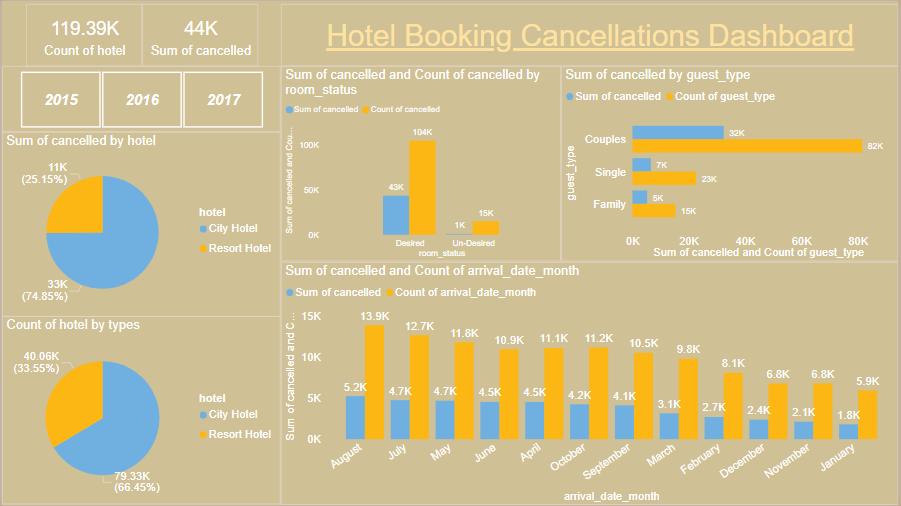

This screenshot's page, from the dashboard's own definition file:
{"tool":"powerbi","page":{"name":"Page 1","canvas":[1280,720],"ordinal":0},"visuals":[{"type":"clusteredBarChart","title":"Sum of cancelled by guest_type","fields":{"Category":["hotel_booking1.guest_type"],"Y":["Sum(hotel_booking1.is_canceled)","CountNonNull(hotel_booking1.guest_type)"]},"box":[798,93.5,481.9,279.2],"z":0},{"type":"pieChart","title":"Count of hotel by types","fields":{"Category":["hotel_booking1.hotel"],"Y":["CountNonNull(hotel_booking1.hotel)"]},"box":[0,450.7,398.3,269.3],"z":1000},{"type":"clusteredColumnChart","title":"Sum of cancelled and Count of arrival_date_month ","fields":{"Category":["hotel_booking1.arrival_date_month"],"Y":["Sum(hotel_booking1.is_canceled)","CountNonNull(hotel_booking1.arrival_date_month)"]},"box":[398.3,372.8,881.6,347.2],"z":2000},{"type":"pieChart","fields":{"Y":["Sum(hotel_booking1.is_canceled)"],"Series":["hotel_booking1.hotel"]},"box":[0,187.1,398.3,263.6],"z":3000},{"type":"clusteredColumnChart","fields":{"Y":["Sum(hotel_booking1.is_canceled)","CountNonNull(hotel_booking1.is_canceled)"],"Category":["hotel_booking1.room_status"]},"box":[398.3,93.5,399.7,279.2],"z":4000},{"type":"card","fields":{"Values":["CountNonNull(hotel_booking1.hotel)"]},"box":[34,4.3,165.8,89.3],"z":5000},{"type":"card","fields":{"Values":["Sum(hotel_booking1.is_canceled)"]},"box":[199.8,4.3,165.8,89.3],"z":6000},{"type":"slicer","fields":{"Values":["hotel_booking1.arrival_date_year"]},"box":[0,93.5,398.3,93.5],"z":7000},{"type":"textbox","box":[398.3,4.3,881.6,89.3],"z":8000}]}

Visuals, with their boxes in screenshot pixels (x1, y1, x2, y2), scaled from the page's 1280x720 canvas onto the 901x506 screenshot:
"Sum of cancelled by guest_type" clusteredBarChart: (left=562, top=66, right=900, bottom=262)
"Count of hotel by types" pieChart: (left=0, top=317, right=280, bottom=505)
"Sum of cancelled and Count of arrival_date_month " clusteredColumnChart: (left=280, top=262, right=900, bottom=505)
pieChart - Sum(hotel_booking1.is_canceled) x hotel_booking1.hotel: (left=0, top=131, right=280, bottom=317)
clusteredColumnChart - Sum(hotel_booking1.is_canceled) x CountNonNull(hotel_booking1.is_canceled): (left=280, top=66, right=562, bottom=262)
card - CountNonNull(hotel_booking1.hotel): (left=24, top=3, right=141, bottom=66)
card - Sum(hotel_booking1.is_canceled): (left=141, top=3, right=257, bottom=66)
slicer - hotel_booking1.arrival_date_year: (left=0, top=66, right=280, bottom=131)
textbox: (left=280, top=3, right=900, bottom=66)
